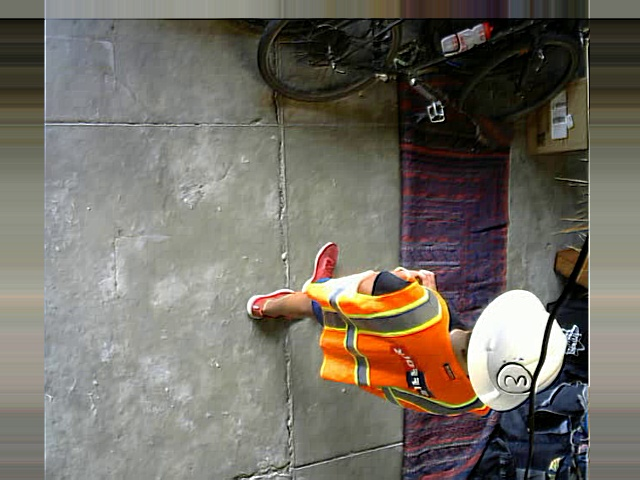three: (495, 362, 533, 394)
